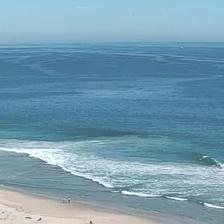surfer: (161, 148, 163, 152)
